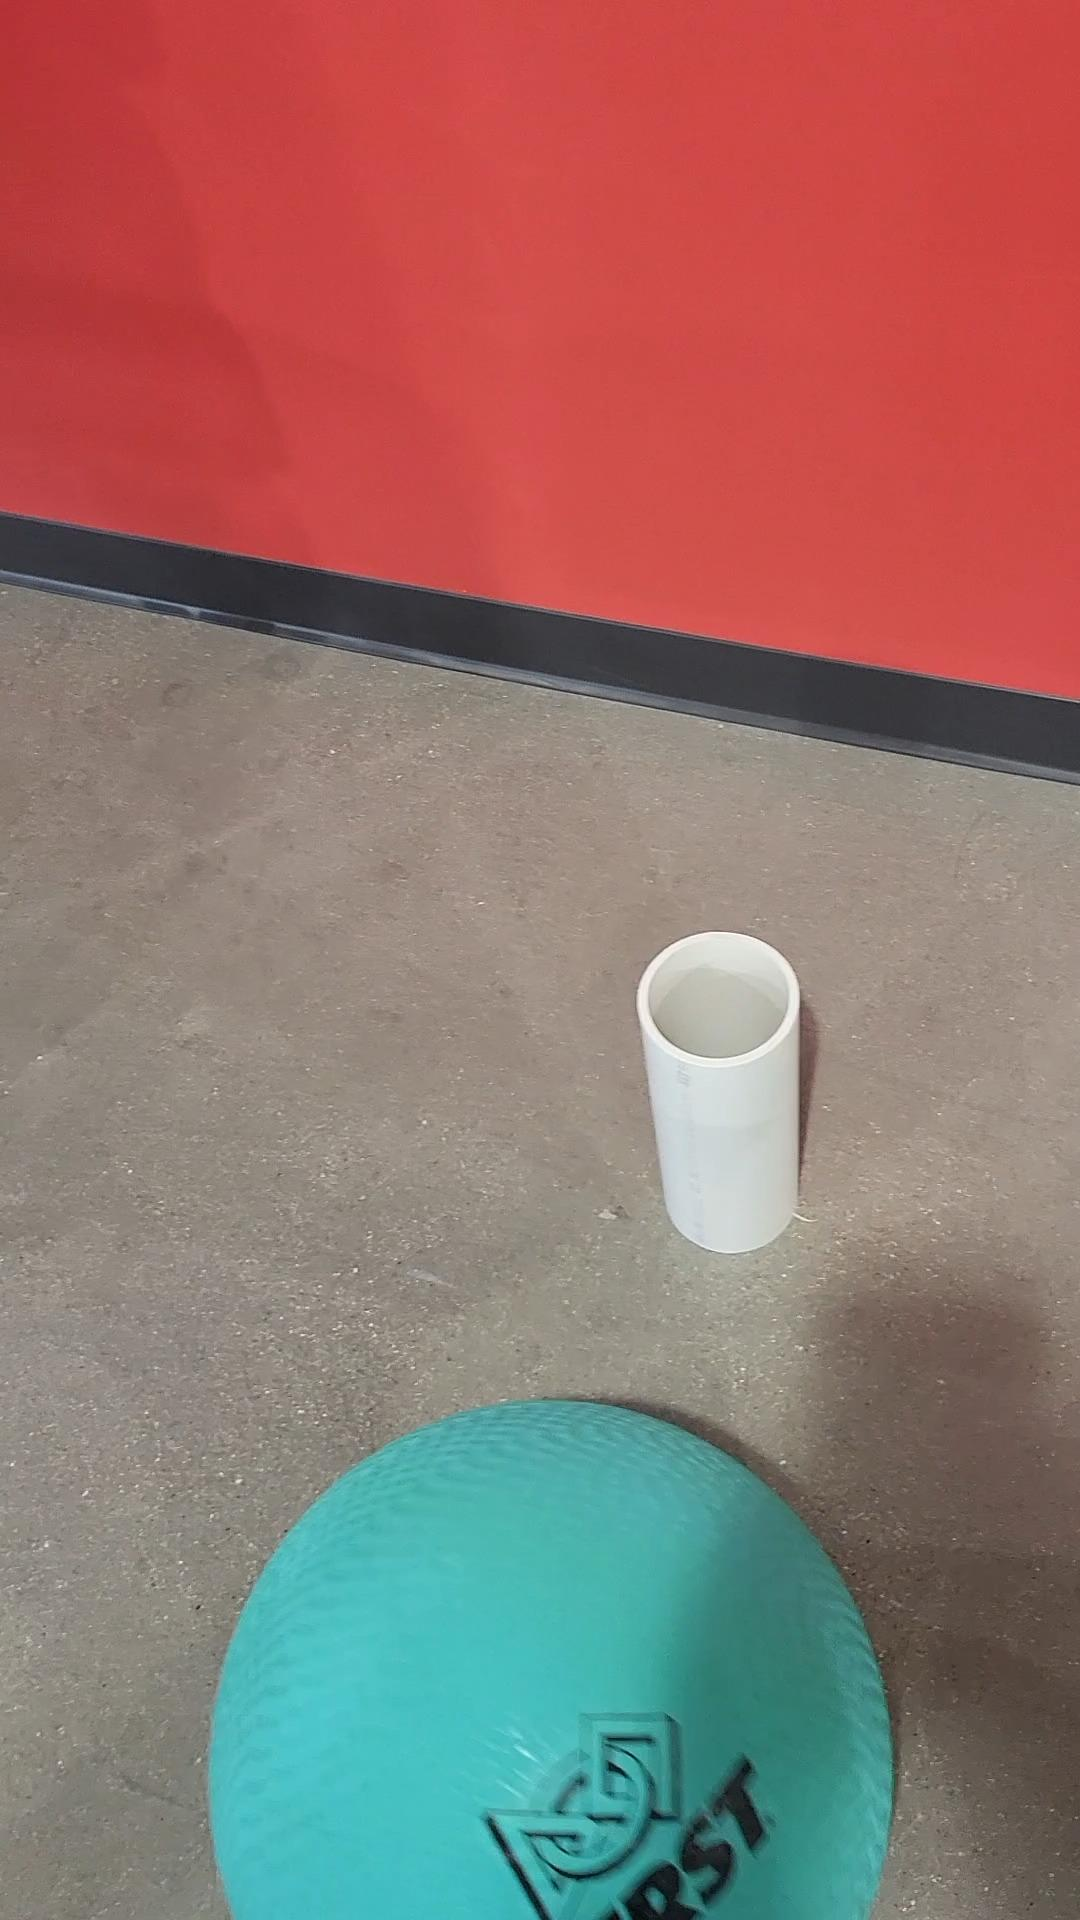algae: (211, 1394, 899, 1920)
coral: (636, 924, 811, 1257)
